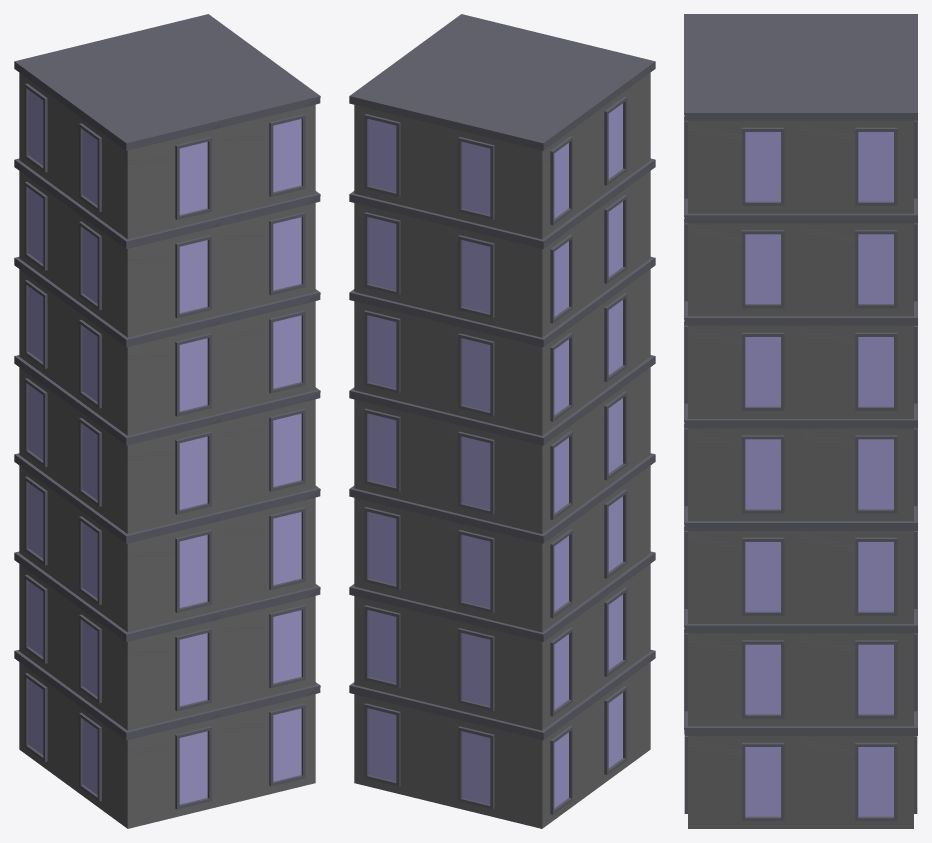
The model's file is obj_flat_2x2_sqaure_tall_2.FBX.
The picture shows the model from 3 angles, left to right: view 1: azimuth 30°, elevation 25°; view 2: azimuth 150°, elevation 25°; view 3: azimuth 270°, elevation 25°; orthographic projection. The views are drawn at different scales.
Visible parts, largest first — view 1: obj_flat_2x2_sqaure_tall_2; view 2: obj_flat_2x2_sqaure_tall_2; view 3: obj_flat_2x2_sqaure_tall_2.
Part boxes in pixels (left/top/right/bottom): obj_flat_2x2_sqaure_tall_2: left=14, top=14, right=320, bottom=828; obj_flat_2x2_sqaure_tall_2: left=349, top=14, right=655, bottom=828; obj_flat_2x2_sqaure_tall_2: left=684, top=14, right=917, bottom=828.
Bounding box in the file's own units: 4.14 × 14 × 4.14.
1 material, 1 textured.
